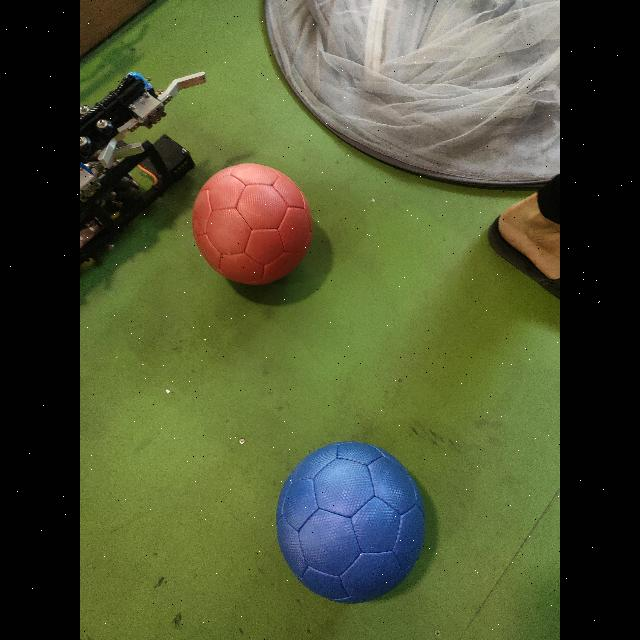B: (275, 442, 438, 608)
R: (191, 163, 313, 289)
